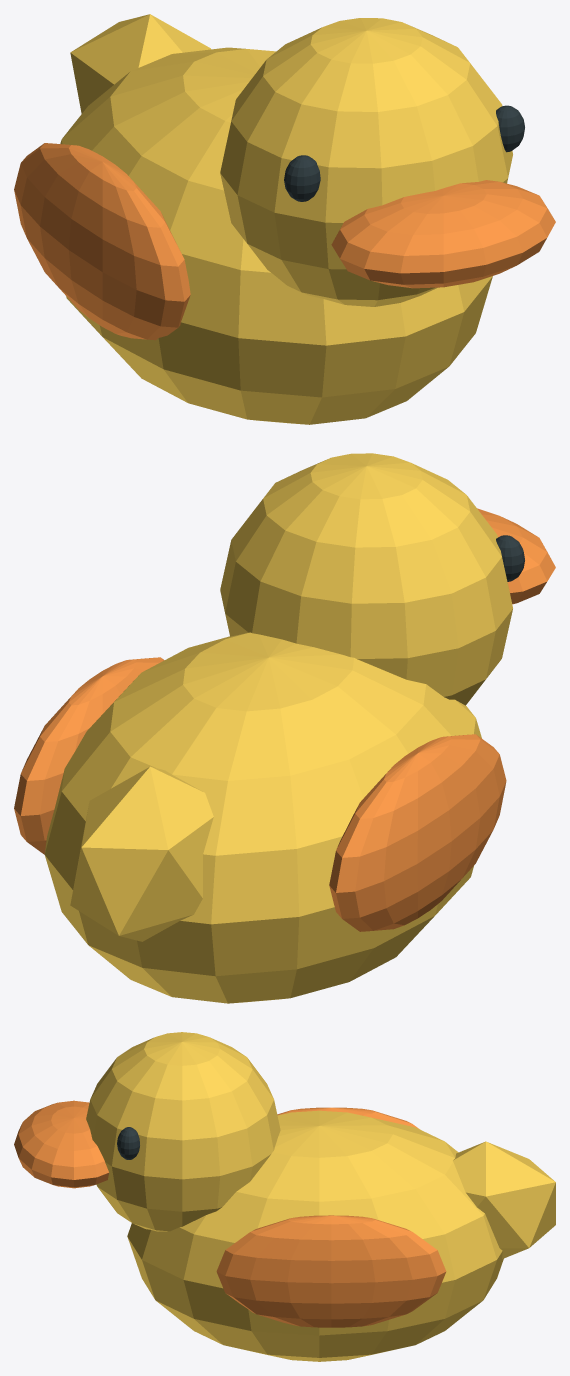
File: P049_rubber_duck.glb
3 views of the same model, one above another, from view 1: azimuth 30°, elevation 25°; view 2: azimuth 150°, elevation 25°; view 3: azimuth 270°, elevation 25° (orthographic). The views are drawn at different scales.
Visible parts, largest first — view 1: P049_body_001, P049_head_002, P049_wing_006, P049_bill_003, P049_tail_004, P049_eye_005, P049_eye_007; view 2: P049_body_001, P049_head_002, P049_wing_006, P049_tail_004, P049_wing_008, P049_bill_003, P049_eye_005; view 3: P049_body_001, P049_head_002, P049_wing_008, P049_tail_004, P049_bill_003, P049_wing_006, P049_eye_007.
Boxes of the visible parts, x1,y1,x2,y2 form: P049_body_001: (60,47,492,424); P049_head_002: (220,18,512,306); P049_wing_006: (14,143,190,340); P049_bill_003: (331,180,555,288); P049_tail_004: (70,14,210,113); P049_eye_005: (284,155,320,201); P049_eye_007: (496,105,524,152); P049_body_001: (44,632,481,1003); P049_head_002: (220,453,512,705); P049_wing_006: (329,734,506,931); P049_tail_004: (70,766,213,941); P049_wing_008: (14,657,164,854); P049_bill_003: (477,508,555,604); P049_eye_005: (496,535,524,581); P049_body_001: (127,1110,503,1361); P049_head_002: (86,1032,280,1231); P049_wing_008: (216,1215,446,1327); P049_tail_004: (453,1141,555,1258); P049_bill_003: (14,1100,109,1188); P049_wing_006: (277,1107,418,1128); P049_eye_007: (117,1127,139,1159).
Size of the model in its own units: 0.1808 by 0.196 by 0.3158.
